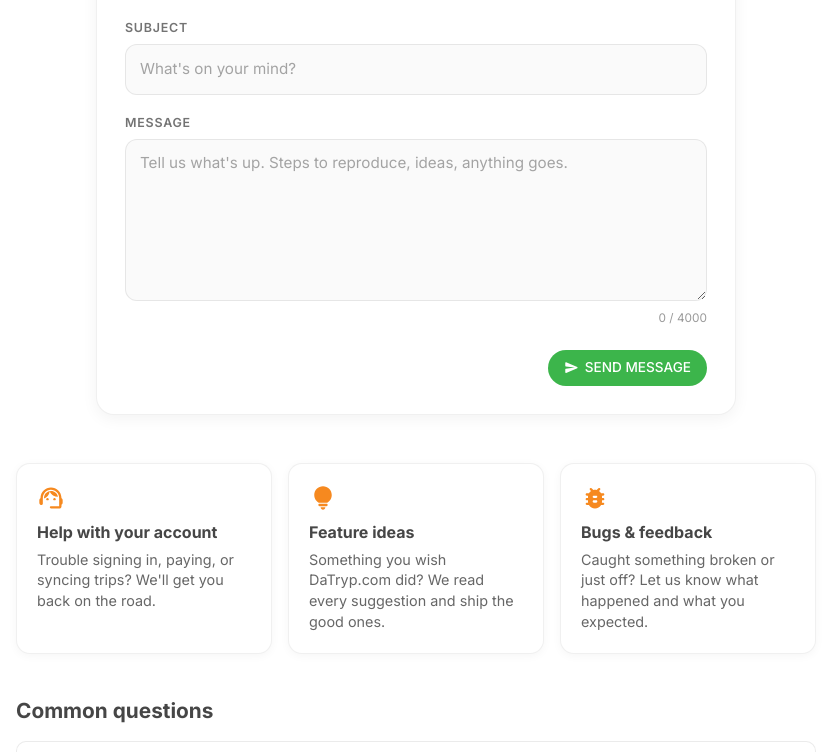
Test case: Contact › blocks submit and shows a validation error when fields are empty
(page scrolled)
Click the button "Send message". click: x=627, y=368
box: [548,350,707,386]
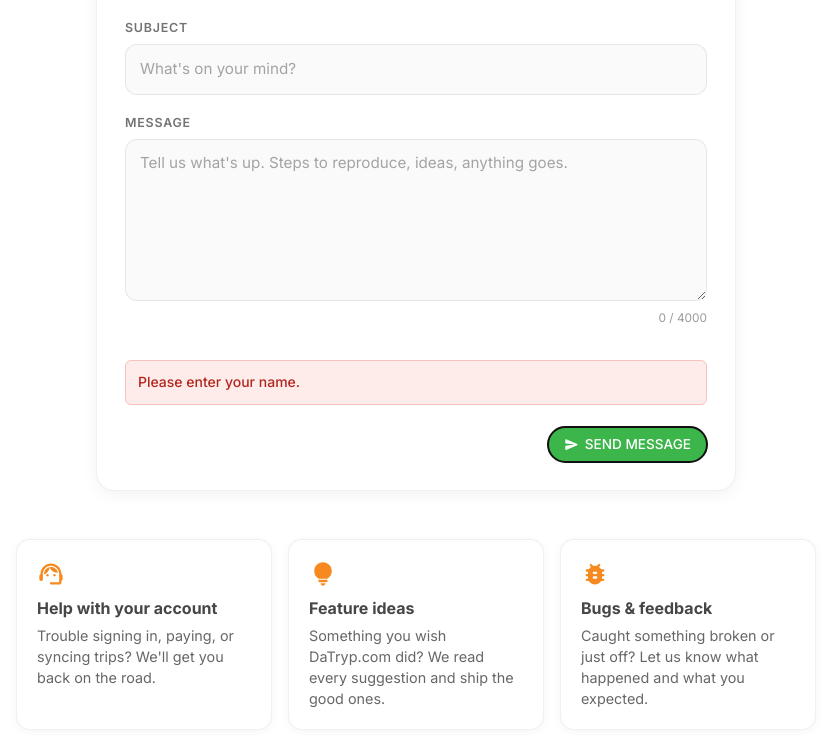
Check: the message reads "Please enter your name.", box [138,373,300,390]
